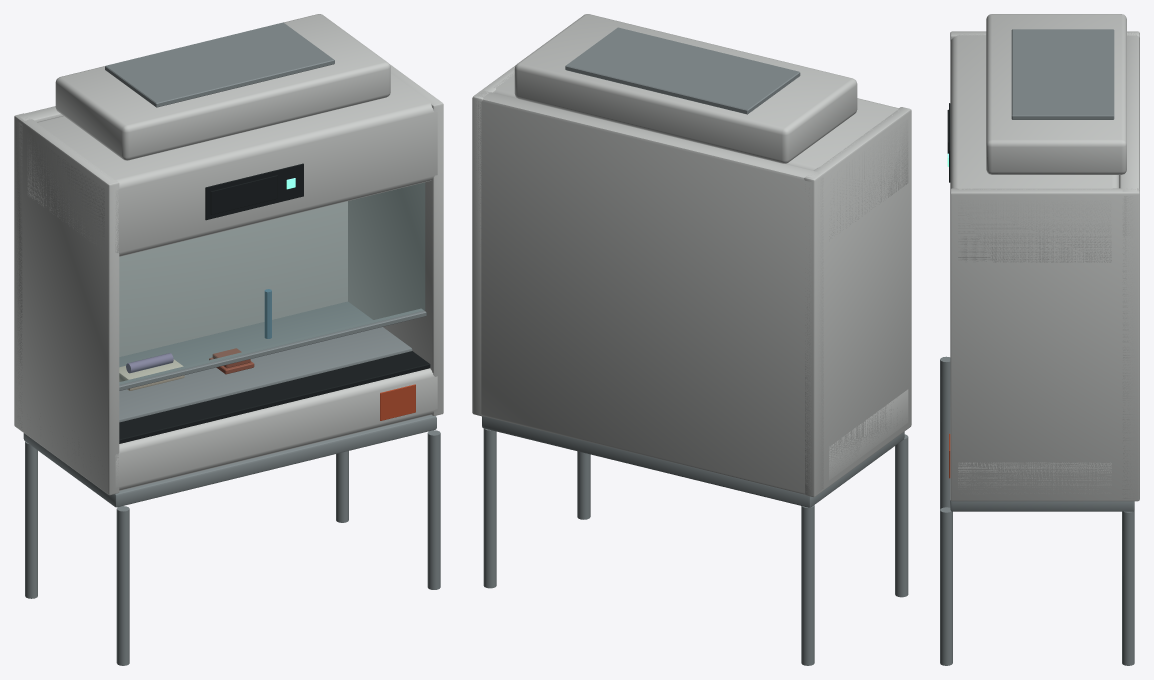
Rendered from biosafety-cabinet.glb.
3 renders of one model, left to right at view 1: azimuth 30°, elevation 25°; view 2: azimuth 150°, elevation 25°; view 3: azimuth 270°, elevation 25°, orthographic. The views are drawn at different scales.
Visible parts, largest first — view 1: biosafety-cabinet; view 2: biosafety-cabinet; view 3: biosafety-cabinet.
Boxes of the visible parts, x1,y1,x2,y2 form: biosafety-cabinet: (14, 14, 443, 665); biosafety-cabinet: (472, 14, 911, 665); biosafety-cabinet: (940, 14, 1139, 665).
Bounding box in the file's own units: 1.5 × 2.22 × 0.78.
